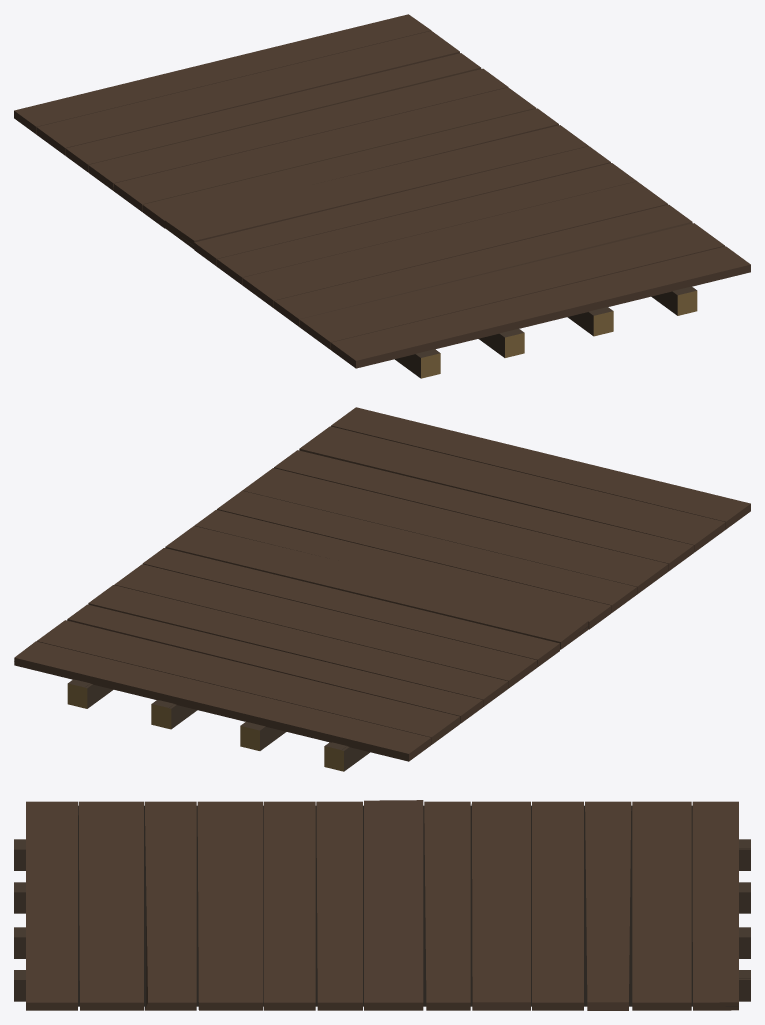
File: Floor_3B_4mx6m.fbx
3 views of the same model, one above another, from view 1: azimuth 30°, elevation 25°; view 2: azimuth 150°, elevation 25°; view 3: azimuth 270°, elevation 25° (orthographic). The views are drawn at different scales.
Parts seen in each view (by area): view 1: pCube2409; view 2: pCube2409; view 3: pCube2409.
Boxes of the visible parts, bbox=[...] form: pCube2409: bbox=[14, 14, 750, 378]; pCube2409: bbox=[14, 407, 750, 771]; pCube2409: bbox=[14, 800, 750, 1010].
Size of the model in its own units: 401 by 28.32 by 620.
